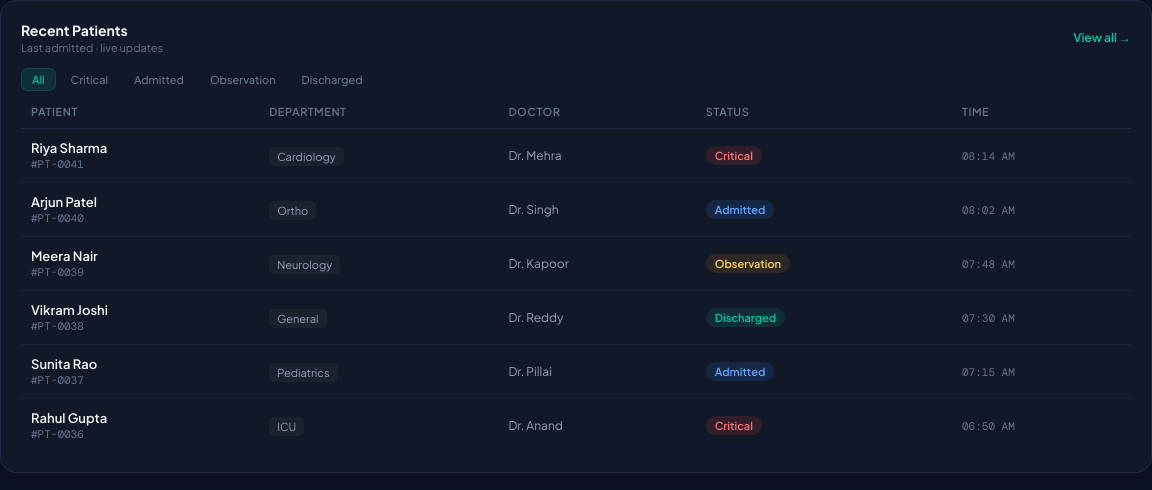
Scenario: PatientsTable › filters patients by Critical status
This screenshot has width=1152, height=490.
Click the button "Critical" at (89, 80), box [60,68,119,91]
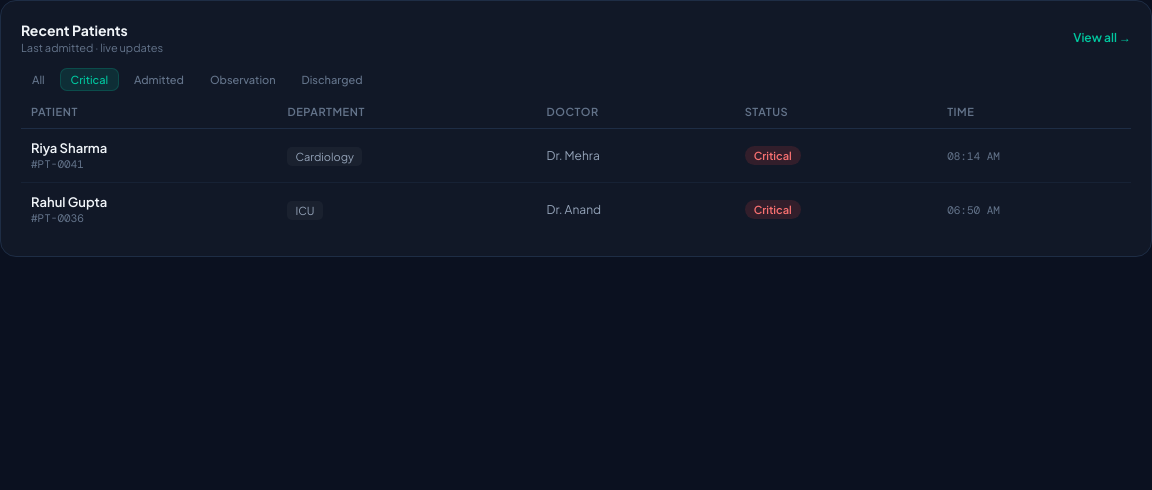
Expected: the number of rows with test id "patient-row" is 2, [21,128,1131,182]; [21,182,1131,236]
